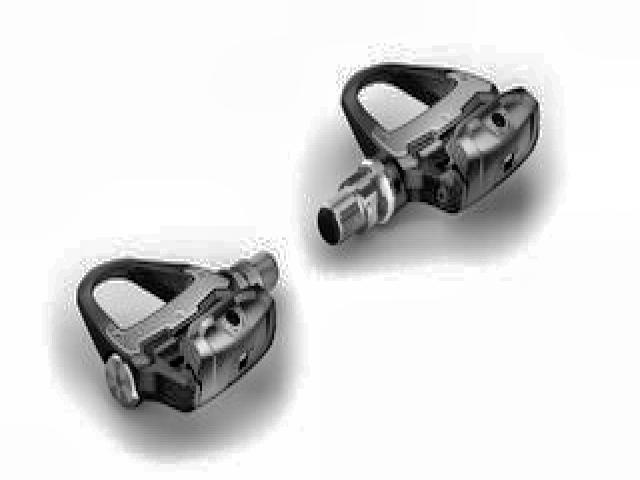pedal: (317, 55, 544, 257), (74, 249, 292, 418)
